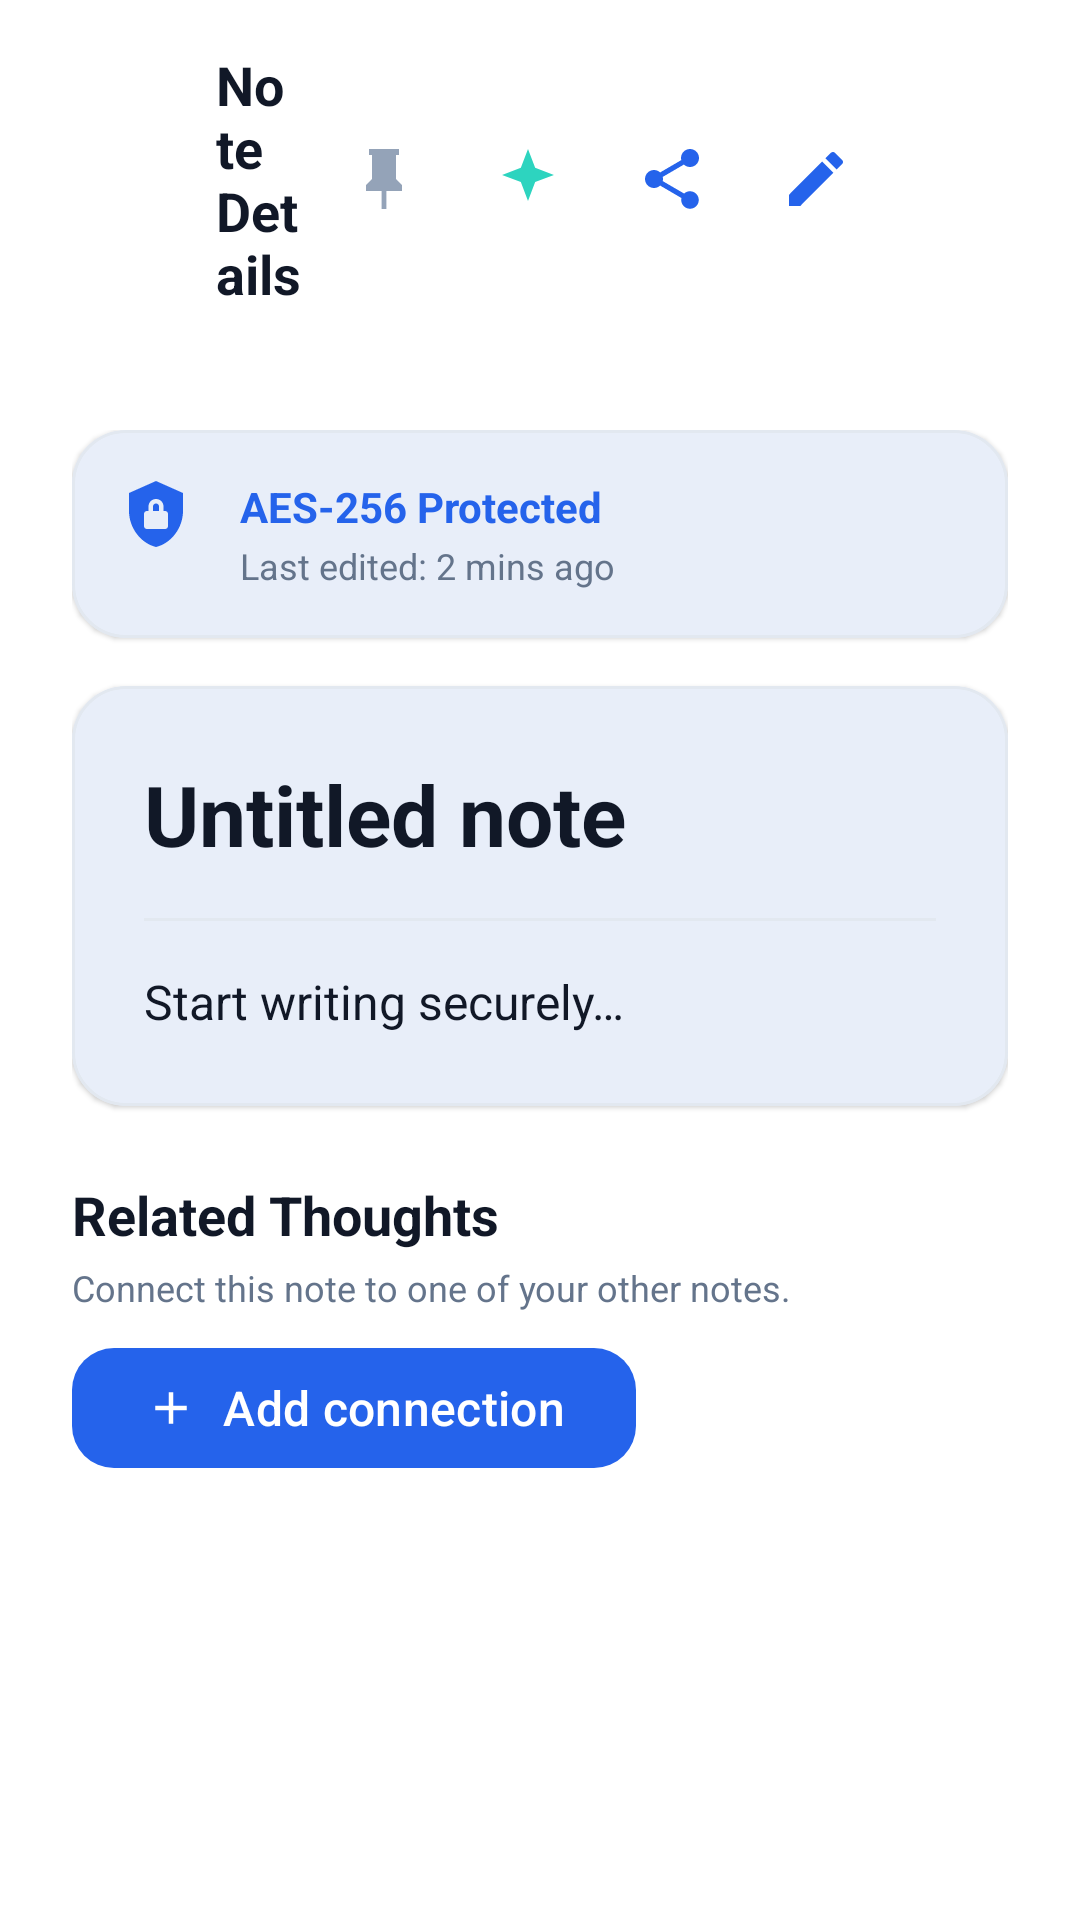

Icon click points for this 1080px x 1920px phone screenshot, format [x,y]:
Edit Note: [816,179]
Pin thought: [384,179]
Share Note: [672,179]
